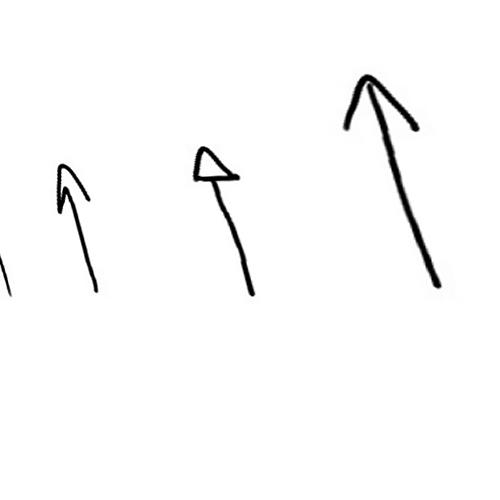arrow: (341, 72, 437, 290), (194, 146, 258, 294), (51, 163, 102, 292)
